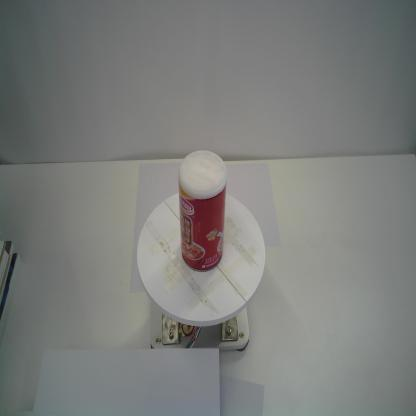Canned Food: (178, 150, 228, 272)
